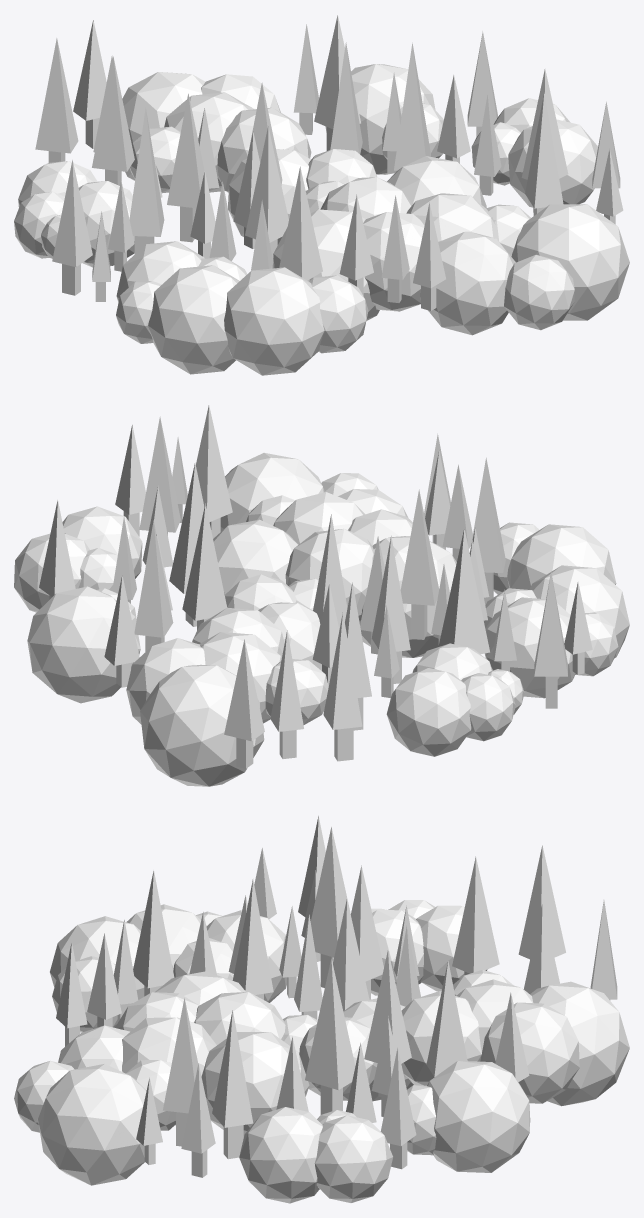
The model's file is forest.fbx.
3 views of the same model, one above another, from view 1: azimuth 30°, elevation 25°; view 2: azimuth 150°, elevation 25°; view 3: azimuth 270°, elevation 25° (orthographic).
Visible parts, largest first — view 1: GeoSphere021; view 2: GeoSphere021; view 3: GeoSphere021.
Part boxes in pixels (box(x1,y1,x2,y2)): GeoSphere021: box(14, 15, 629, 375); GeoSphere021: box(14, 405, 629, 786); GeoSphere021: box(14, 816, 629, 1203).
Bounding box in the file's own units: 6.42 × 2.33 × 6.4.
Materials: 1 (1 with a texture image).
